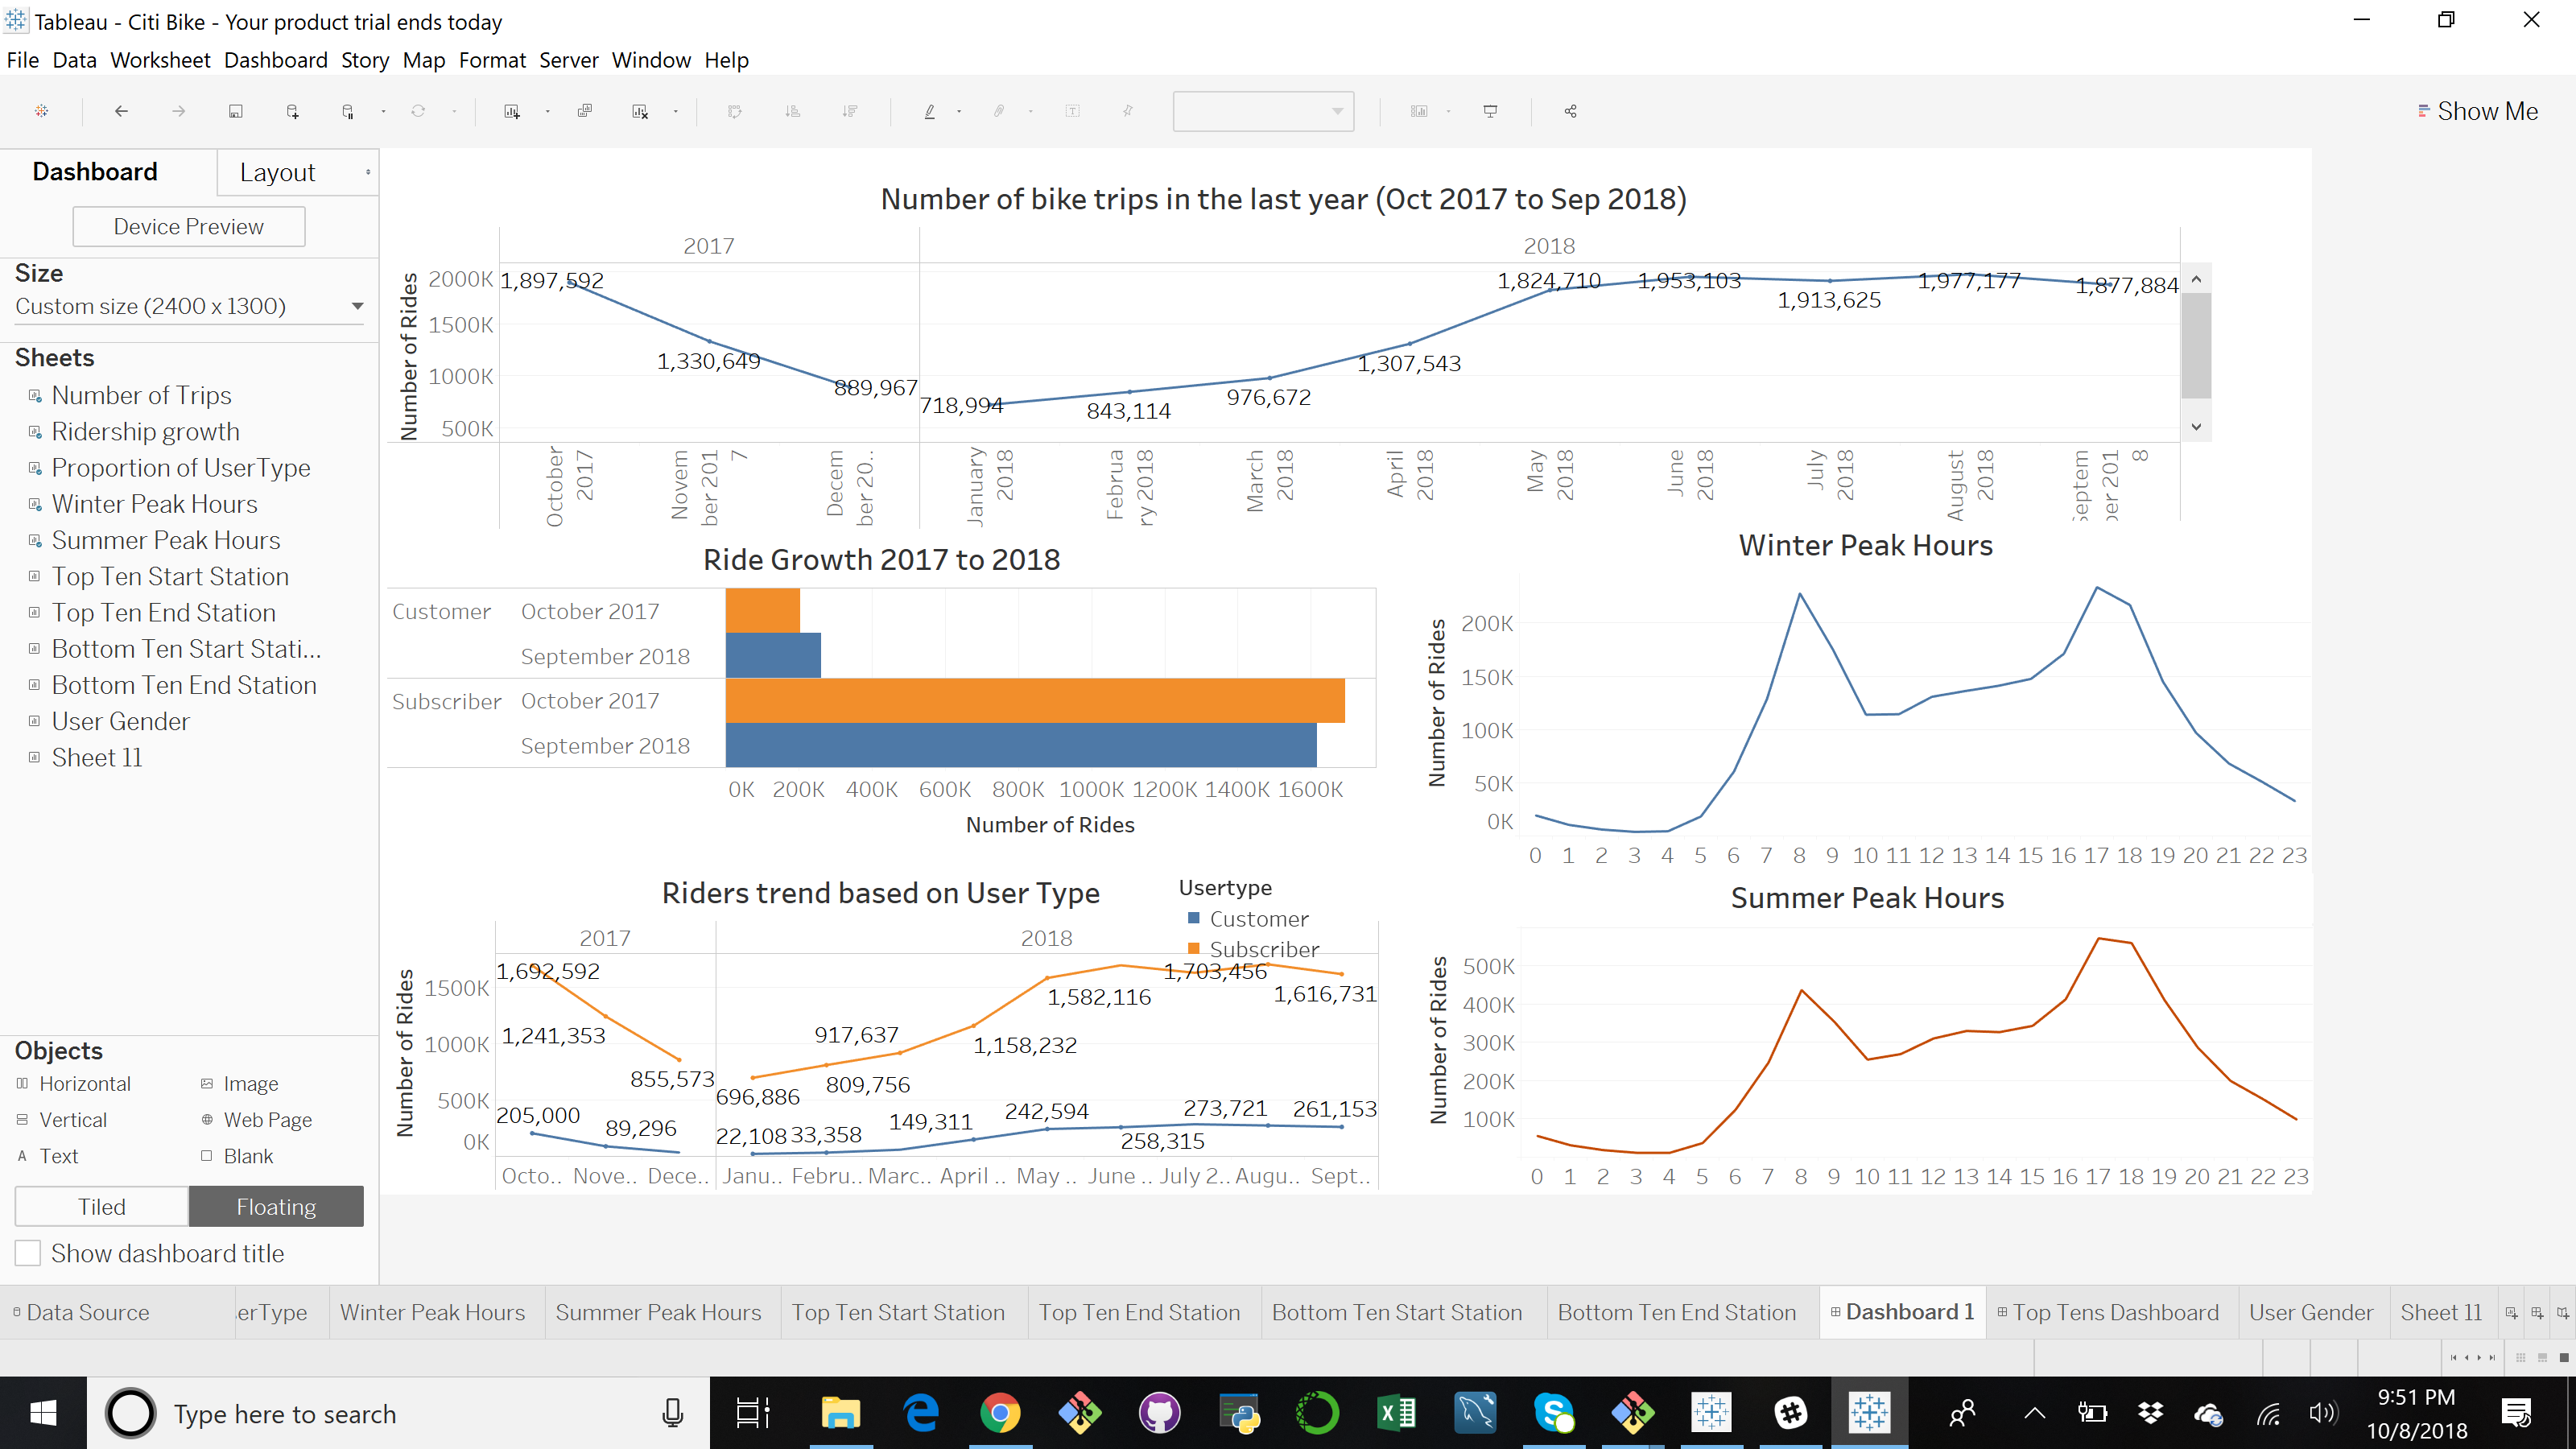

The dashboard page shown, as its layout file describes it:
{"tool":"tableau","page":{"name":"Strategic Dashboard","canvas":[2400,1300],"ordinal":1},"visuals":[{"type":"worksheet","title":"Number of Trips","mark":"Line","rows":["Number of Records"],"cols":["starttime","starttime"],"box":[9,33,2380,441]},{"type":"worksheet","title":"Winter Peak Hours","mark":"Automatic","rows":["Number of Records"],"cols":["starttime"],"box":[1293,463,1106,433]},{"type":"worksheet","title":"Ridership growth","mark":"Bar","rows":["usertype","starttime"],"cols":["Number of Records"],"box":[9,481,1229,385]},{"type":"worksheet","title":"Proportion of UserType","mark":"Line","rows":["Number of Records"],"cols":["starttime","starttime"],"box":[4,895,1237,400]},{"type":"legend","title":"Proportion of UserType","param":"[federated.0ssifpo0klpoy60zy21ru1wd49z4].[none:usertype:nk]","box":[992,899,180,114]},{"type":"worksheet","title":"Summer Peak Hours","mark":"Automatic","rows":["Number of Records"],"cols":["starttime"],"box":[1295,901,1107,394]}]}

Visuals, with their boxes on the page's 2400x1300 design canvas (x1, y1, x2, y2). These are canvas units, not pixel positions in the 2576x1449 screenshot, which may show the page scaled, cropped or inside an application window:
"Number of Trips" worksheet (Line marks): (9,33,2389,474)
"Winter Peak Hours" worksheet: (1293,463,2399,896)
"Ridership growth" worksheet (Bar marks): (9,481,1238,866)
"Proportion of UserType" worksheet (Line marks): (4,895,1241,1295)
"Proportion of UserType" legend: (992,899,1172,1013)
"Summer Peak Hours" worksheet: (1295,901,2402,1295)
